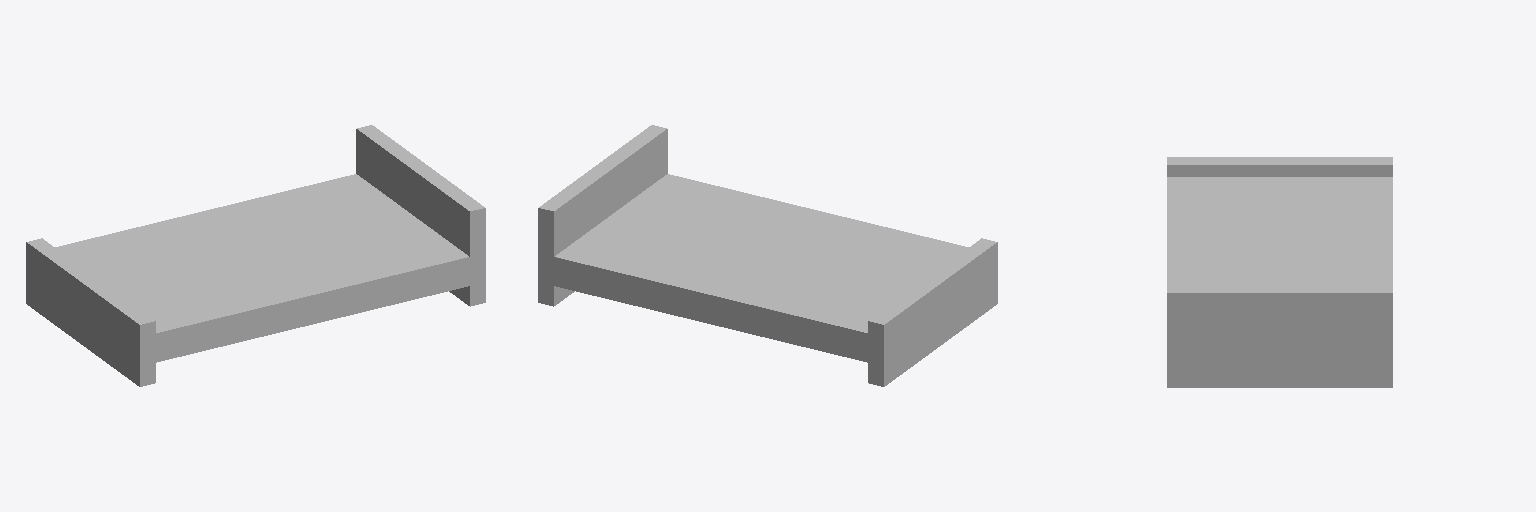
File: bed.obj
3 views of the same model, side by side, from view 1: azimuth 30°, elevation 25°; view 2: azimuth 150°, elevation 25°; view 3: azimuth 270°, elevation 25° (orthographic).
Visible parts, largest first — view 1: Cube; view 2: Cube; view 3: Cube.
Boxes of the visible parts, box(x1,y1,x2,y2) form: Cube: box(26, 125, 485, 386); Cube: box(538, 125, 997, 386); Cube: box(1167, 157, 1392, 387).
Bounding box in the file's own units: 8.8 × 2.31 × 5.